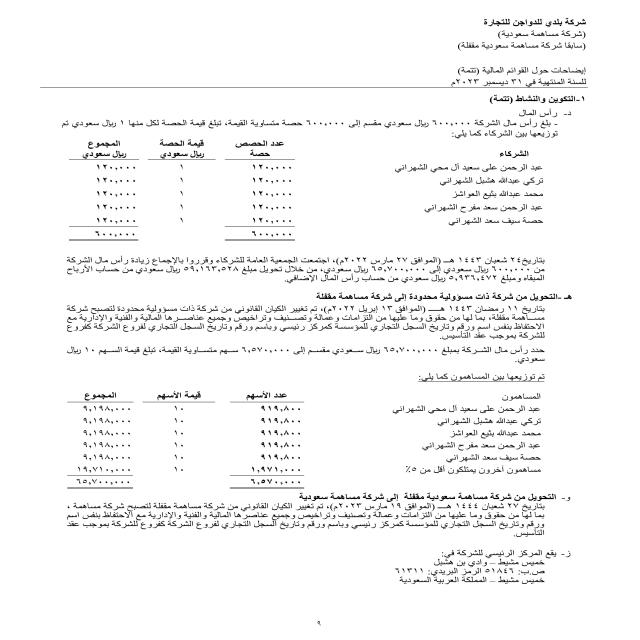notes: (426, 64, 597, 77)
table: (48, 376, 323, 492), (54, 132, 302, 260)
